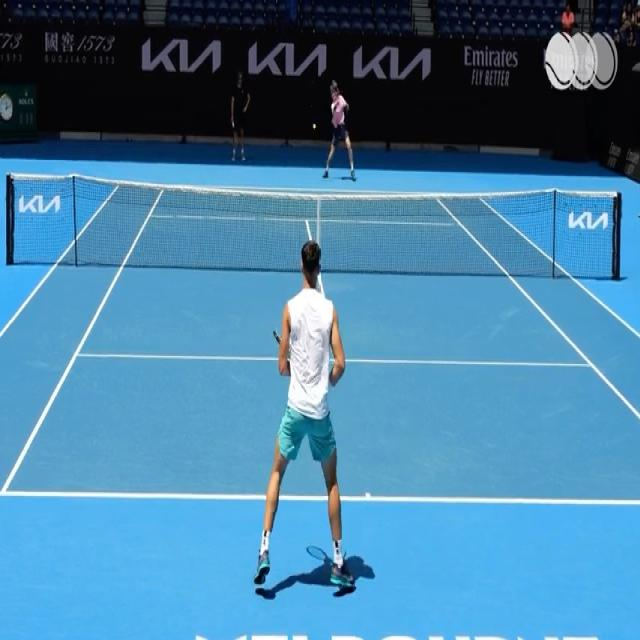ready-position: (263, 244, 357, 594)
